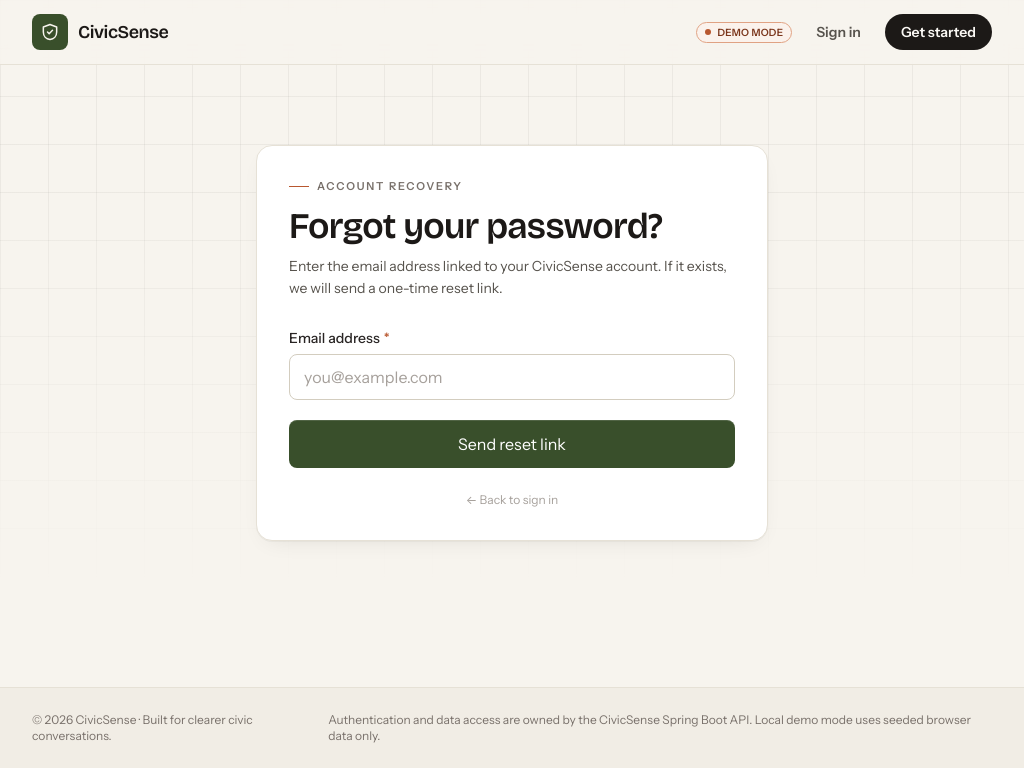
Test case: Phase 10 password recovery › shows an error when a reset request fails
Type "citizen@example.com" into the field labelled "Email address *".
click(512, 377); type("citizen@example.com")  # box x1=289 y1=354 x2=735 y2=400
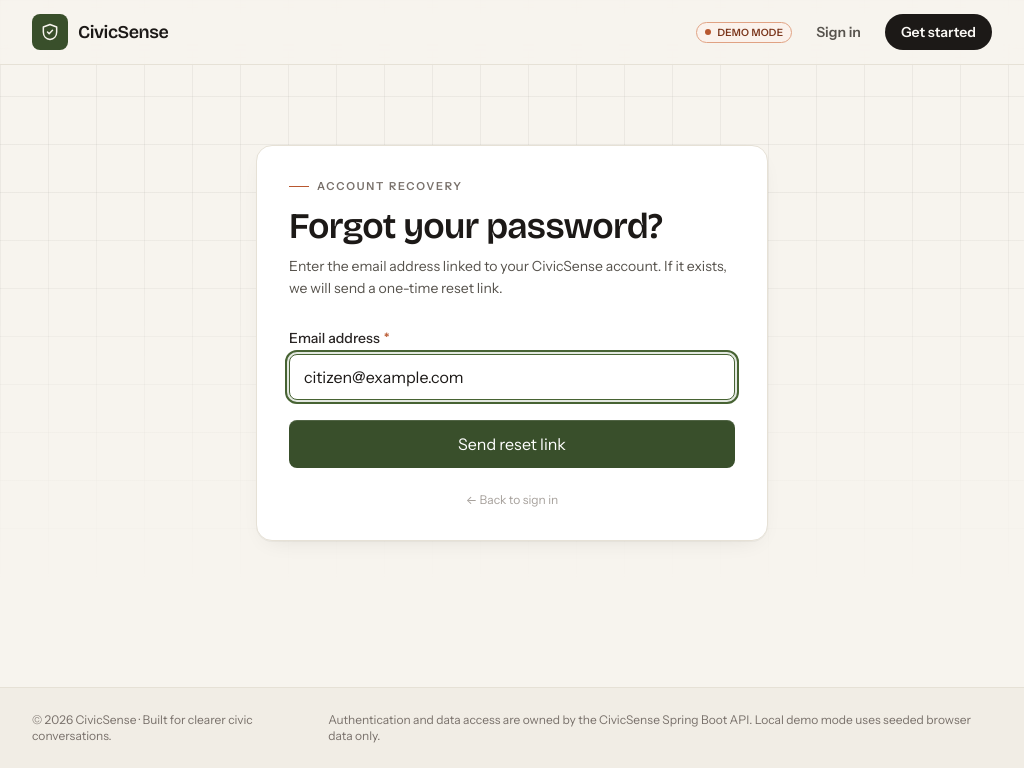
Click the button "Send reset link".
click(512, 444)  # box x1=289 y1=420 x2=735 y2=468
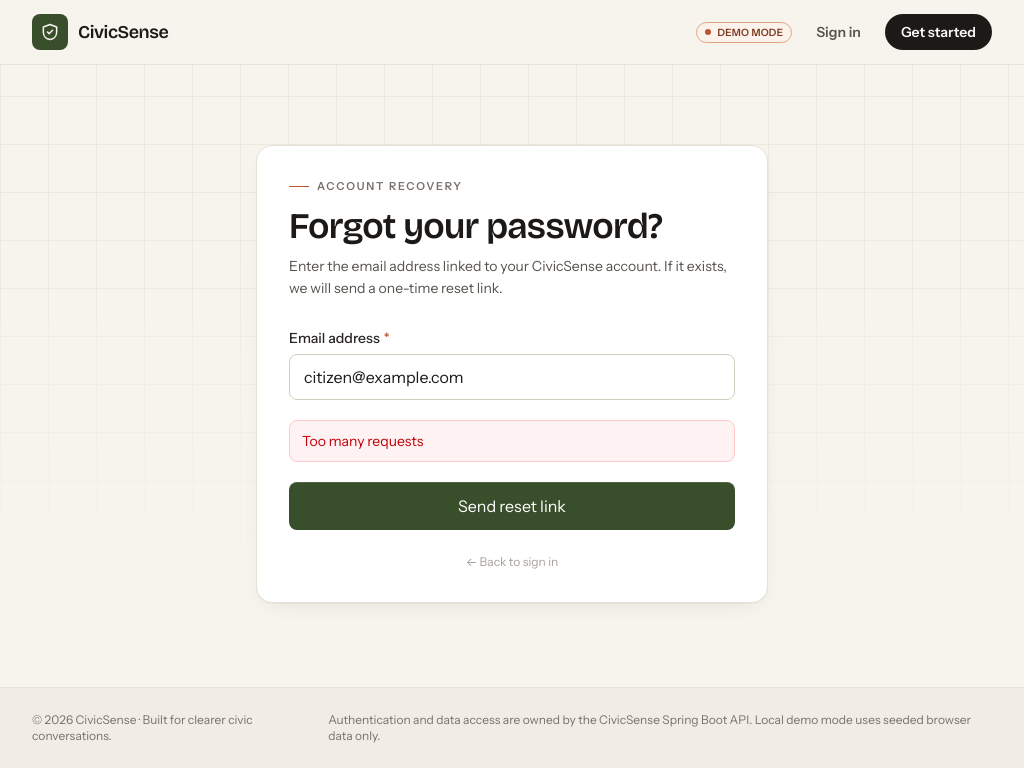
Expected: the message reads "Too many requests", x1=302 y1=432 x2=423 y2=450
